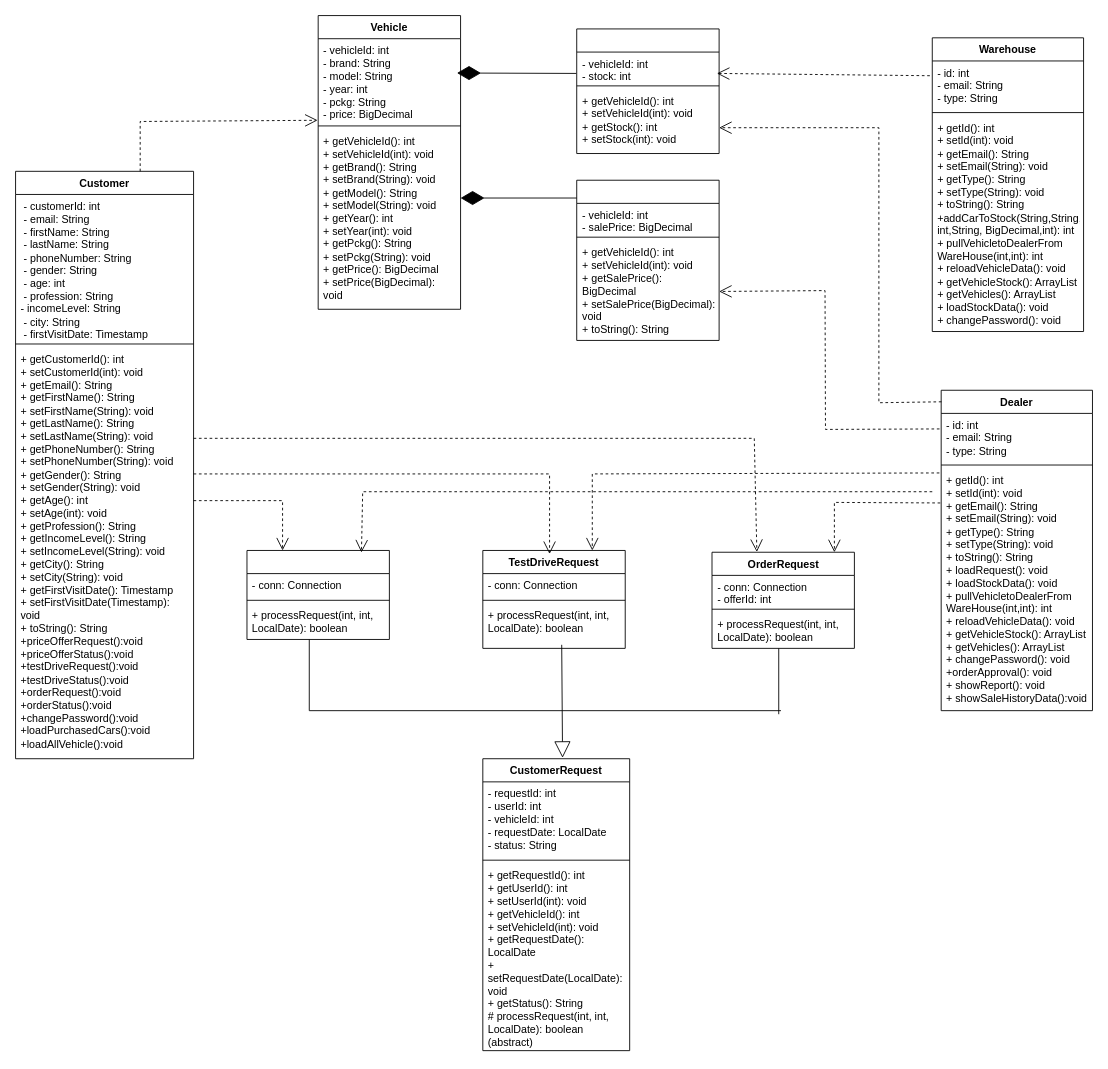
The diagram is 1108 pixels wide and 1069 high, and some of its shapes have lost their labels. Each missing label, with the box of its shape:
PriceOfferRequest: (246, 550, 389, 639)
SalesRecord: (576, 179, 719, 340)
VehicleStock: (576, 28, 719, 154)
